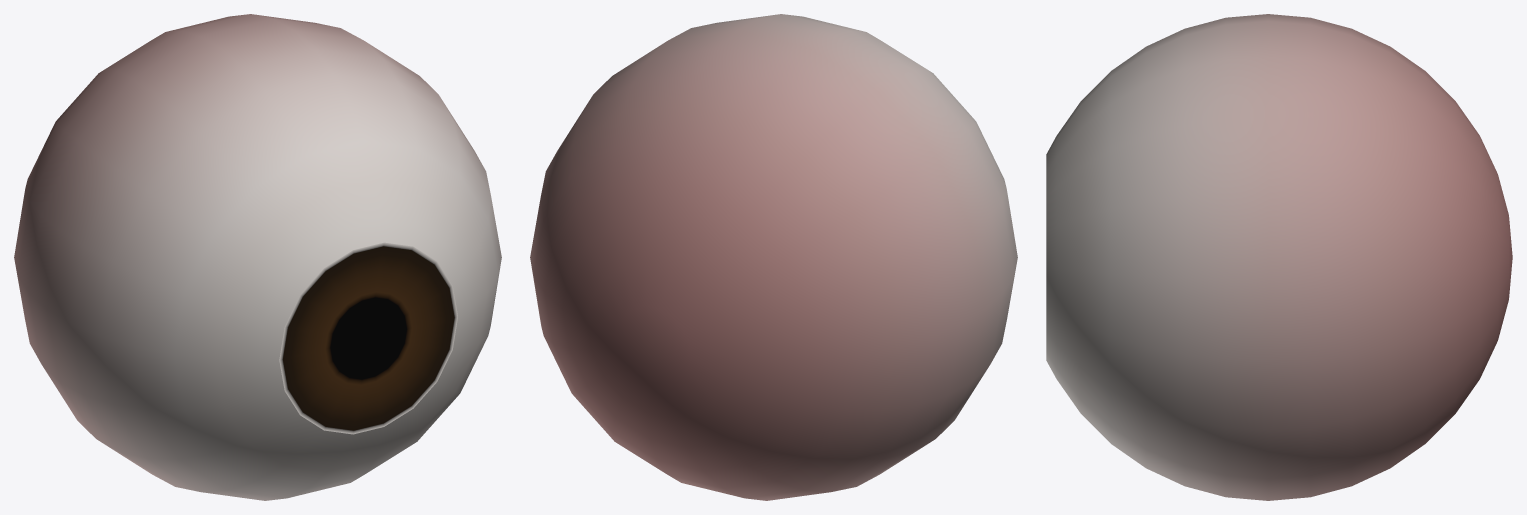
3 renders of one model, left to right at view 1: azimuth 30°, elevation 25°; view 2: azimuth 150°, elevation 25°; view 3: azimuth 270°, elevation 25°, orthographic.
Parts seen in each view (by area): view 1: base.127; view 2: base.127; view 3: base.127.
Part boxes in pixels (<box>): base.127: <box>14,14,501,500</box>; base.127: <box>530,14,1017,500</box>; base.127: <box>1046,14,1512,500</box>.
Size of the model in its own units: 0.5 by 0.4924 by 0.477.
